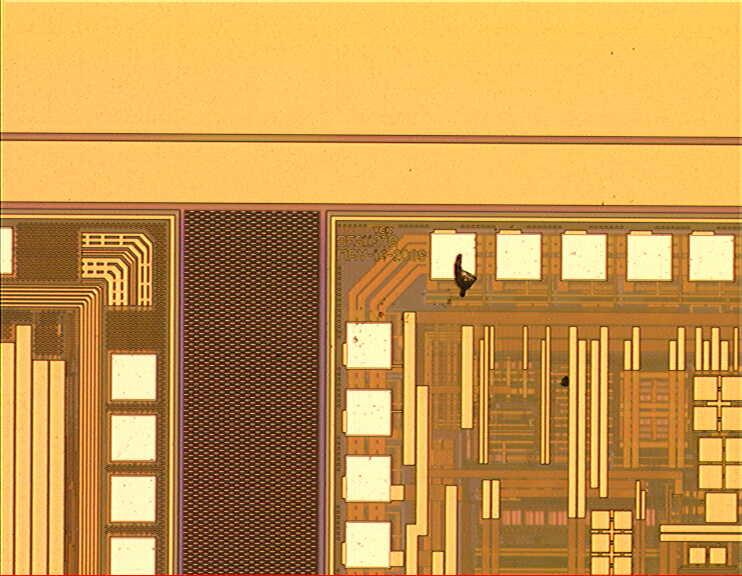PO CONTAMINATION: (348, 250, 577, 393)
